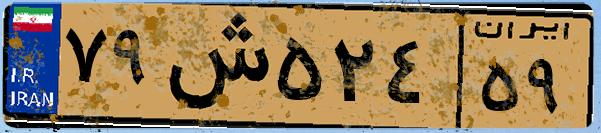2: (330, 28, 385, 110)
4: (385, 28, 445, 110)
5: (270, 28, 330, 110), (475, 38, 525, 113)
7: (57, 26, 110, 100)
9: (525, 38, 570, 115), (110, 28, 158, 98)
ش: (158, 12, 270, 120)
